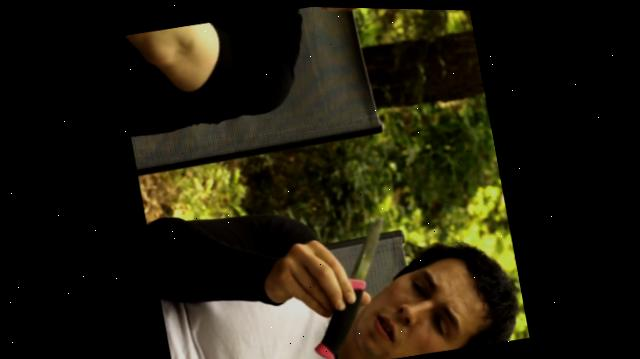pocket-knife: (290, 199, 418, 359)
